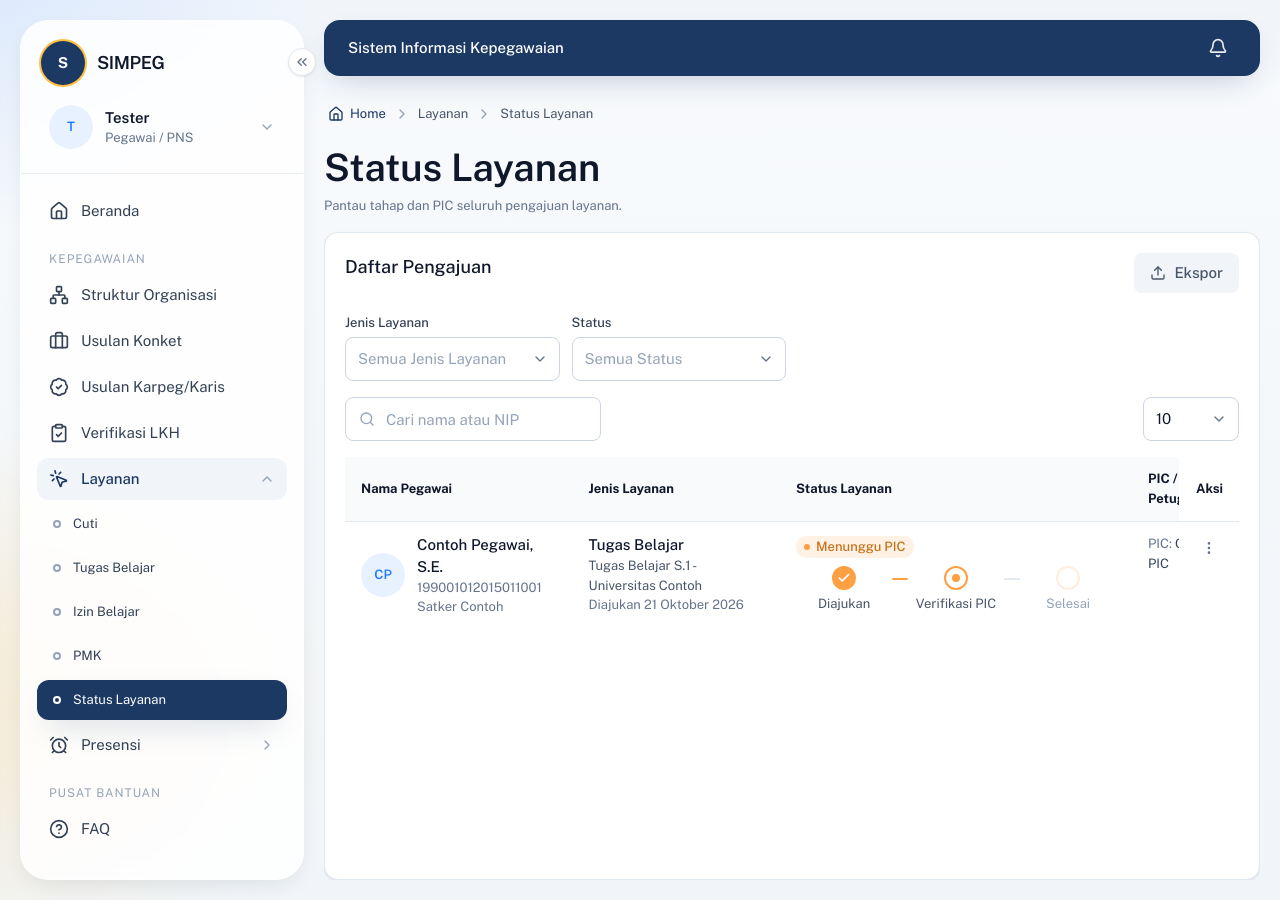
LayananStatusPage › Ekspor gagal (422 batas baris) → pesan galat, tidak menyimpan berkas
The image size is (1280, 900).
Click the button with test id "export-trigger": (1187, 273) top-left (1134, 253), bottom-right (1239, 293)
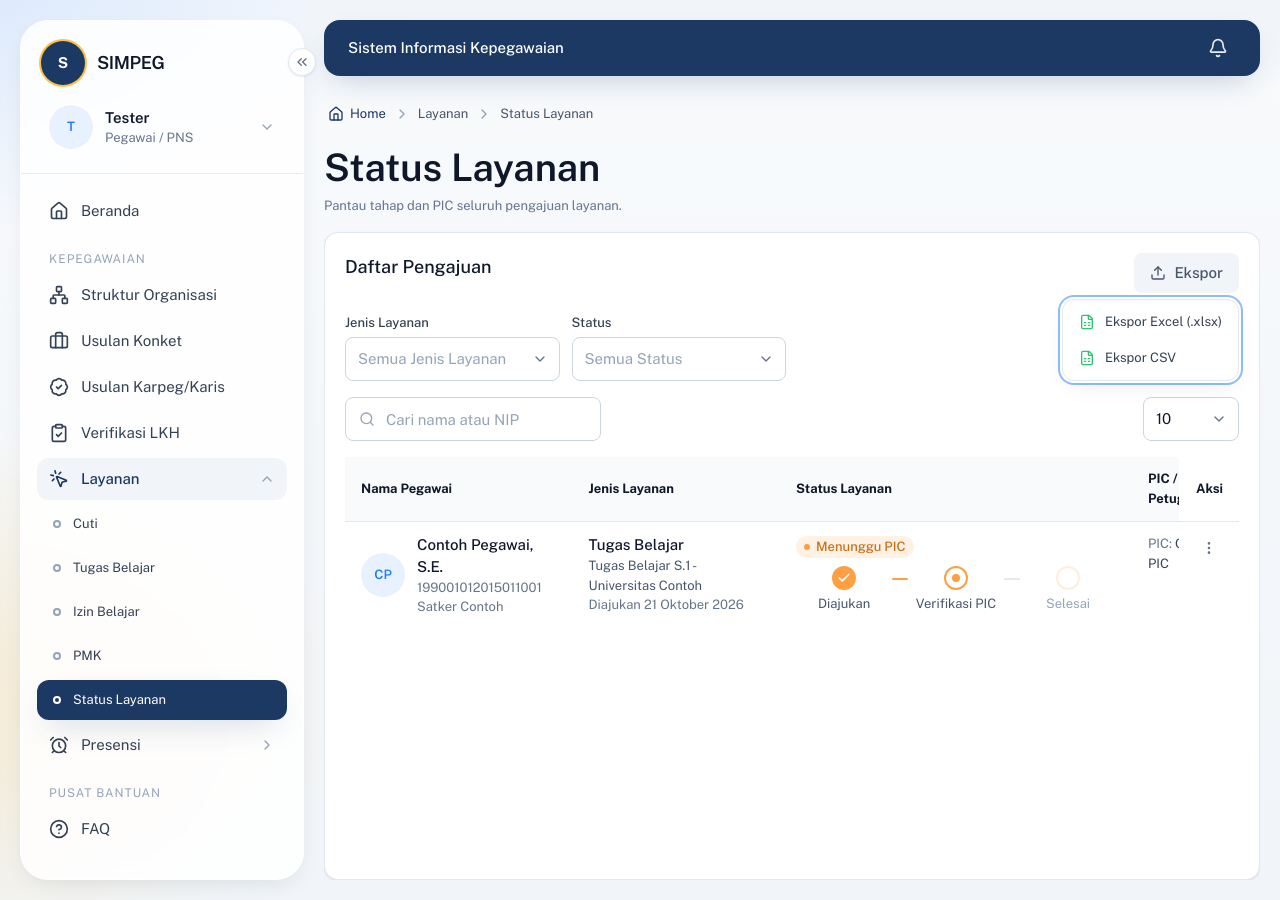
Click the menu item "Ekspor Excel (.xlsx)": (1151, 322) top-left (1079, 314), bottom-right (1222, 330)
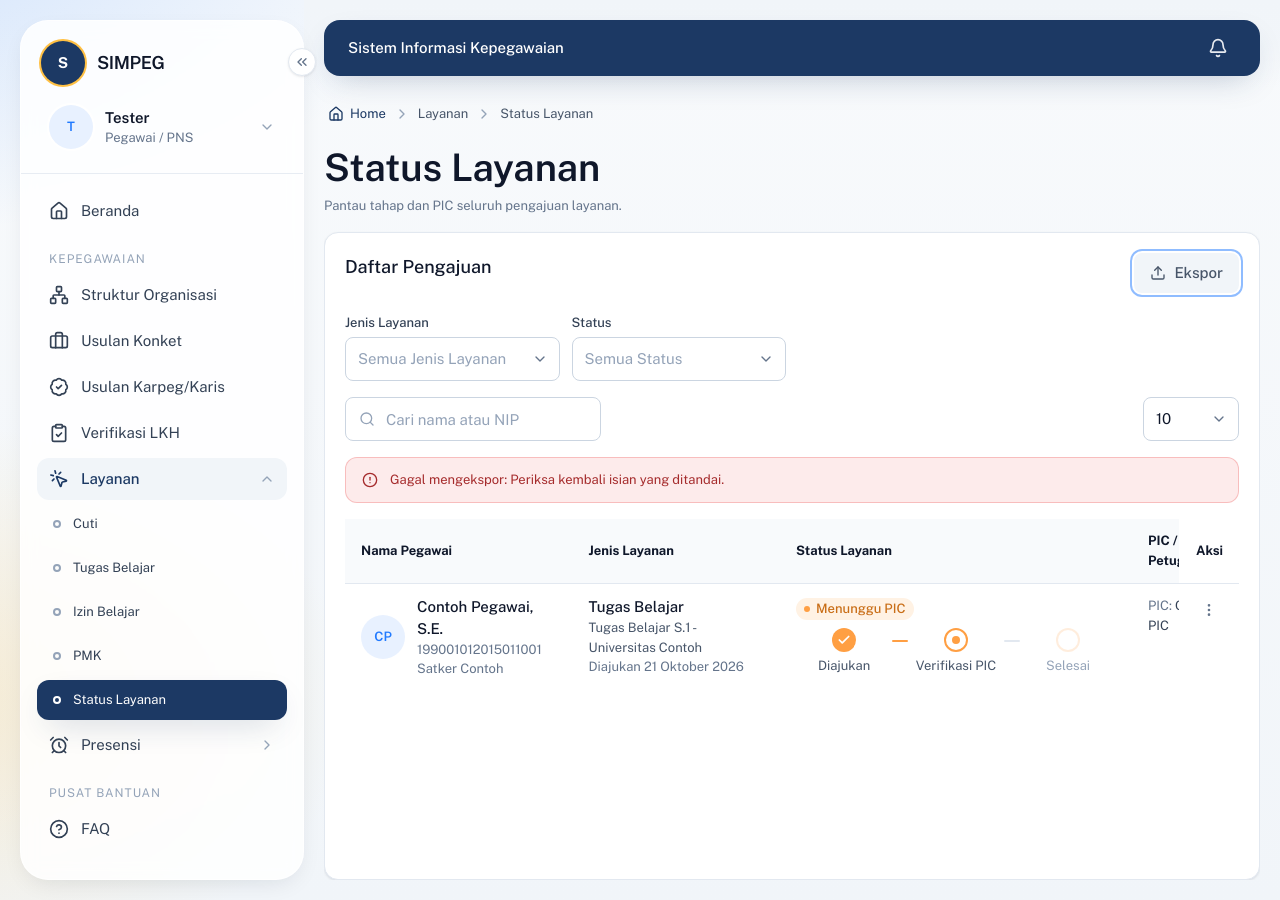
expect the message with test id "layanan-status-ekspor-error" shows "Gagal mengekspor": met, box top-left (390, 472), bottom-right (724, 487)
